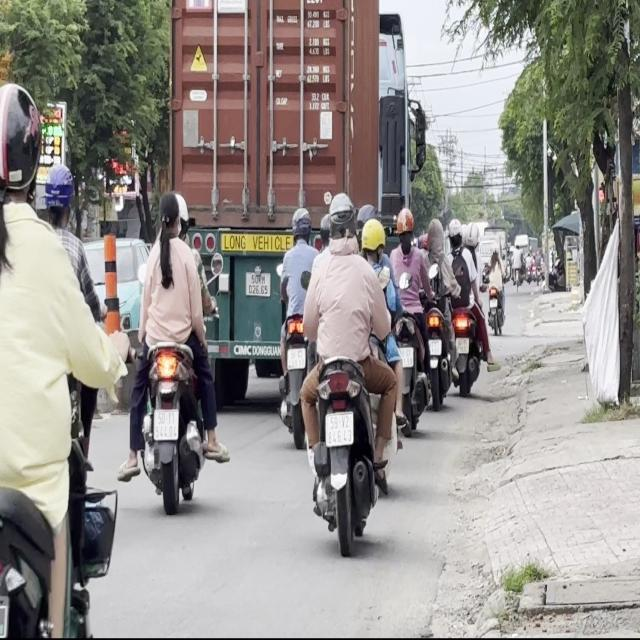helmet: (0, 80, 43, 201), (41, 160, 76, 228), (326, 191, 356, 245), (360, 217, 384, 261), (174, 189, 191, 242), (290, 206, 311, 243), (426, 217, 445, 255), (395, 207, 414, 244), (447, 218, 463, 247), (318, 212, 330, 245)
licenseplate: (296, 191, 403, 553), (124, 178, 226, 512), (382, 204, 431, 431), (276, 204, 318, 444), (448, 216, 490, 396), (424, 208, 455, 404)
motorcyclist: (156, 189, 181, 240)
nohelmet: (325, 410, 353, 444), (153, 408, 178, 441), (288, 347, 304, 369), (399, 348, 413, 367), (428, 340, 442, 355), (456, 337, 469, 353)
